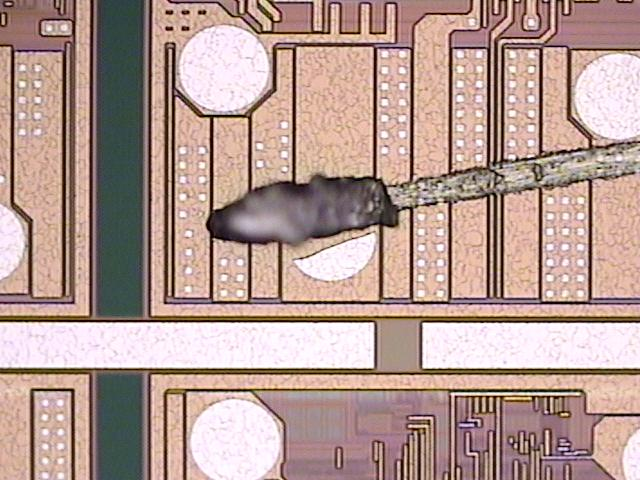SCRATCH: (203, 133, 640, 264)
